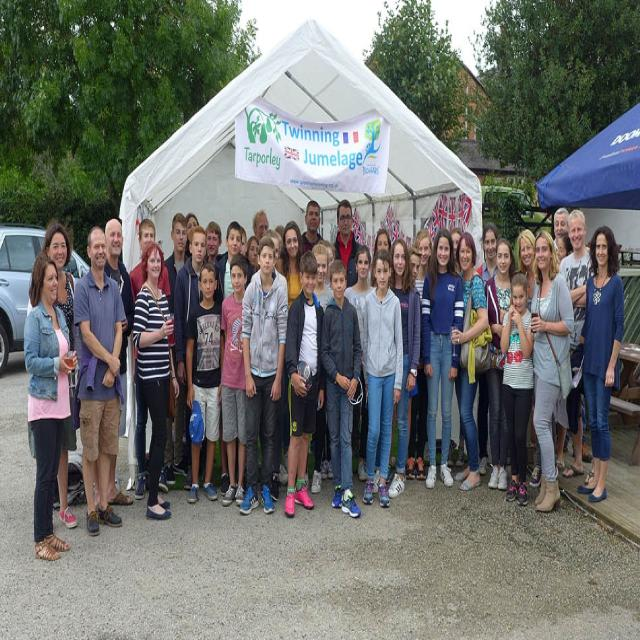body: (498, 229, 576, 516), (20, 252, 79, 563), (72, 224, 127, 538), (26, 221, 78, 531), (129, 217, 180, 499), (238, 235, 288, 516), (574, 227, 624, 504), (132, 240, 180, 522), (372, 236, 423, 499), (282, 247, 329, 517), (94, 217, 136, 512), (557, 207, 600, 486), (419, 225, 464, 491), (360, 251, 404, 509), (320, 258, 362, 520), (450, 229, 490, 492), (183, 259, 225, 506), (498, 270, 537, 508), (482, 236, 518, 493), (173, 223, 208, 478), (342, 243, 378, 485), (161, 212, 190, 487), (516, 226, 544, 490), (475, 222, 503, 478), (220, 253, 248, 507), (406, 228, 432, 481), (331, 196, 364, 292), (215, 219, 252, 299), (236, 214, 287, 270), (282, 220, 304, 308), (310, 242, 335, 316), (546, 202, 572, 263), (301, 199, 325, 255), (201, 218, 221, 258), (449, 222, 462, 276), (406, 244, 422, 287), (323, 236, 337, 279), (183, 210, 200, 245), (373, 228, 392, 253)
